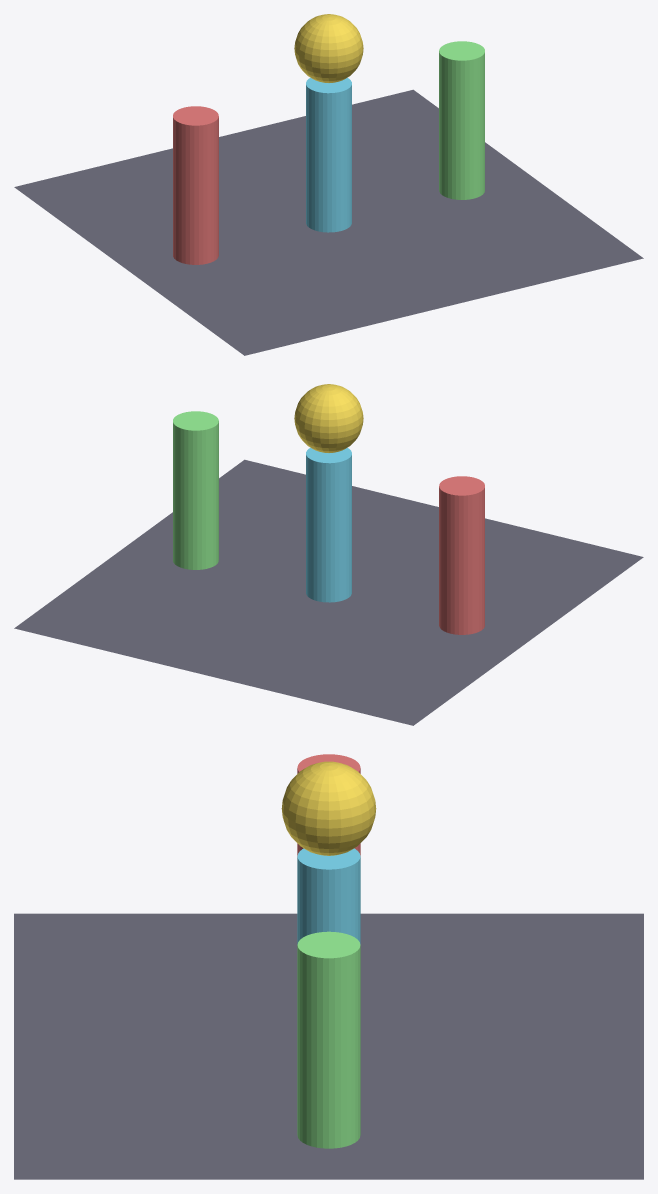
Rendered from verify_scene.glb.
3 views of the same model, one above another, from view 1: azimuth 30°, elevation 25°; view 2: azimuth 150°, elevation 25°; view 3: azimuth 270°, elevation 25° (orthographic). The views are drawn at different scales.
Visible parts, largest first — view 1: Ground, Pillar_2, Pillar_0, Pillar_1, TopSphere; view 2: Ground, Pillar_2, Pillar_0, Pillar_1, TopSphere; view 3: Ground, Pillar_2, TopSphere, Pillar_1, Pillar_0.
Boxes of the visible parts, x1,y1,x2,y2 form: Ground: (14, 89, 643, 355); Pillar_2: (439, 41, 484, 199); Pillar_0: (173, 106, 218, 264); Pillar_1: (306, 77, 351, 232); TopSphere: (294, 14, 363, 82); Ground: (14, 459, 643, 725); Pillar_2: (173, 411, 218, 569); Pillar_0: (439, 476, 484, 634); Pillar_1: (306, 447, 351, 602); TopSphere: (294, 384, 363, 452); Ground: (14, 913, 643, 1179); Pillar_2: (297, 931, 360, 1148); TopSphere: (281, 761, 376, 855); Pillar_1: (297, 848, 360, 944); Pillar_0: (297, 754, 360, 855).
Size of the model in its own units: 6 by 2.95 by 6.
